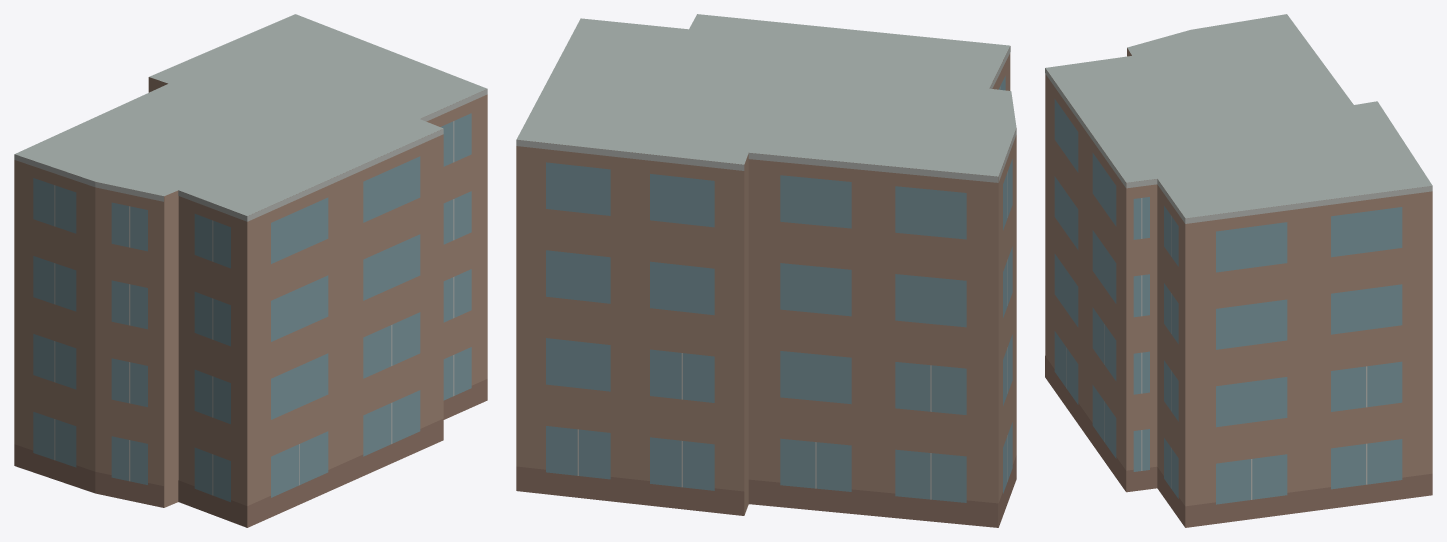
File: survey-upis-32913753.glb
The picture shows the model from 3 angles, left to right: view 1: azimuth 30°, elevation 25°; view 2: azimuth 150°, elevation 25°; view 3: azimuth 270°, elevation 25°; orthographic projection. The views are drawn at different scales.
Parts seen in each view (by area): view 1: survey-upis-32913753.tmp; view 2: survey-upis-32913753.tmp; view 3: survey-upis-32913753.tmp.
Boxes of the visible parts, x1,y1,x2,y2 form: survey-upis-32913753.tmp: [14, 14, 487, 527]; survey-upis-32913753.tmp: [516, 14, 1016, 527]; survey-upis-32913753.tmp: [1045, 14, 1432, 527].
Size of the model in its own units: 19.13 by 13.5 by 15.33.
